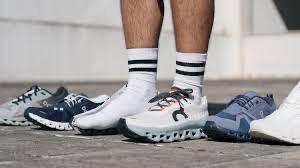OC_logo: (166, 104, 195, 125), (42, 99, 53, 108), (80, 104, 89, 113)
